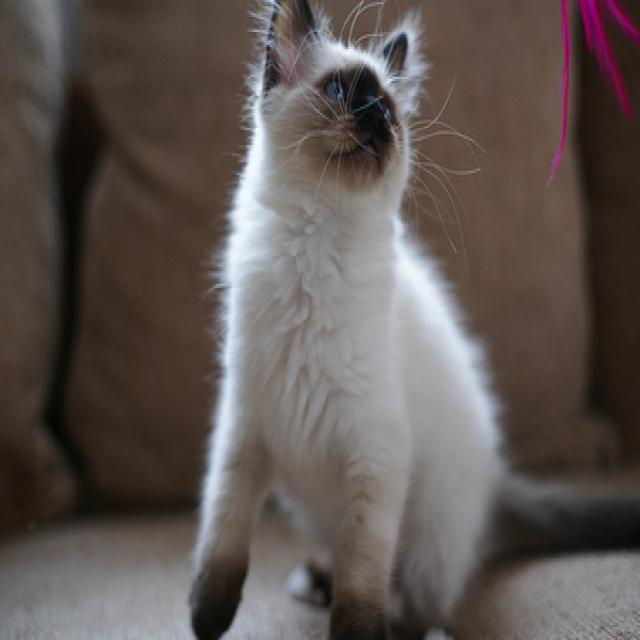Birman: (187, 0, 640, 640)
